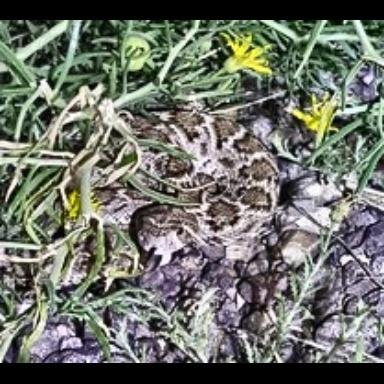snake: (113, 102, 305, 326)
